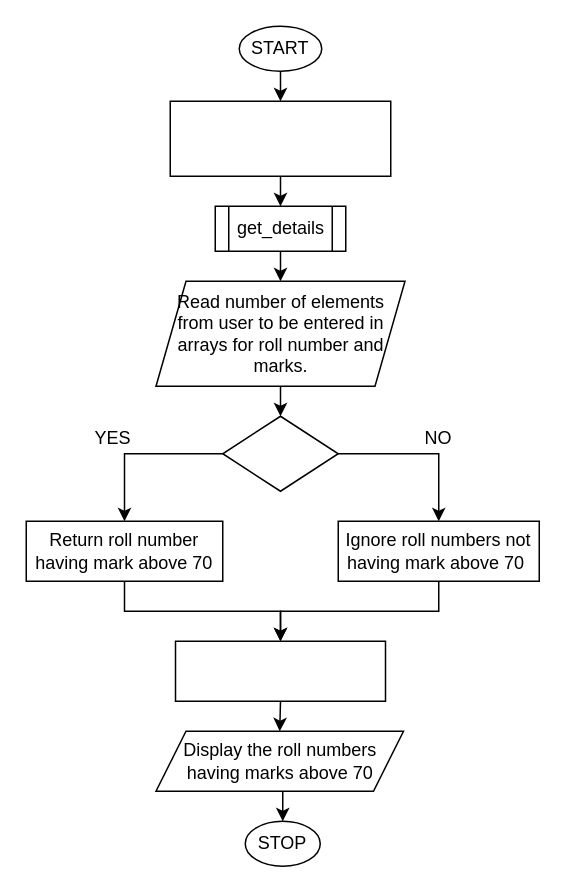
Some shapes in this 566 by 893 pixel diagram are drawn without their labels. Each missing label, with the centre of its shape:
Arrange the roll numbers in Ascending order: the point at 280,670
Declare all the necessary variables and function get_details: the point at 280,138
mark > 70: the point at 279,453
